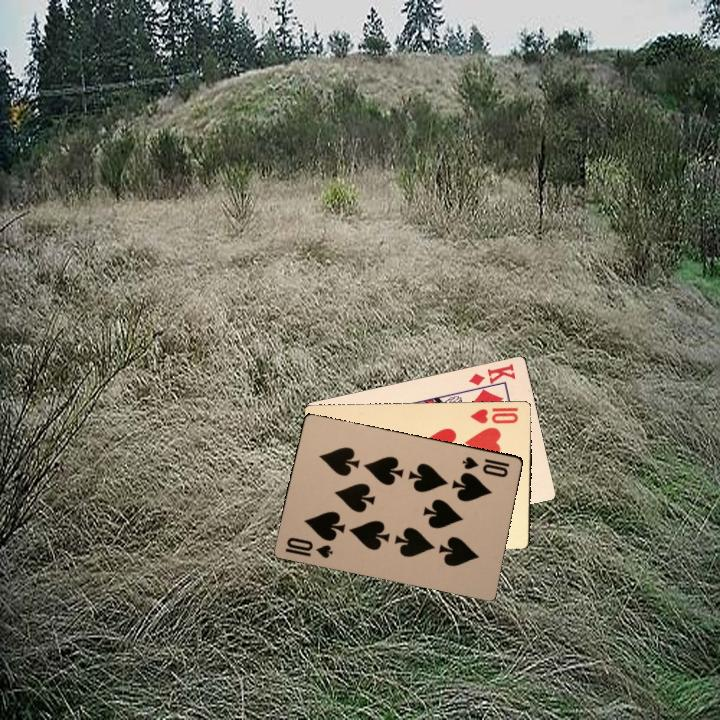10h: (468, 404, 521, 426)
10s: (458, 452, 512, 480), (281, 533, 335, 561)
Kd: (466, 359, 518, 394)
